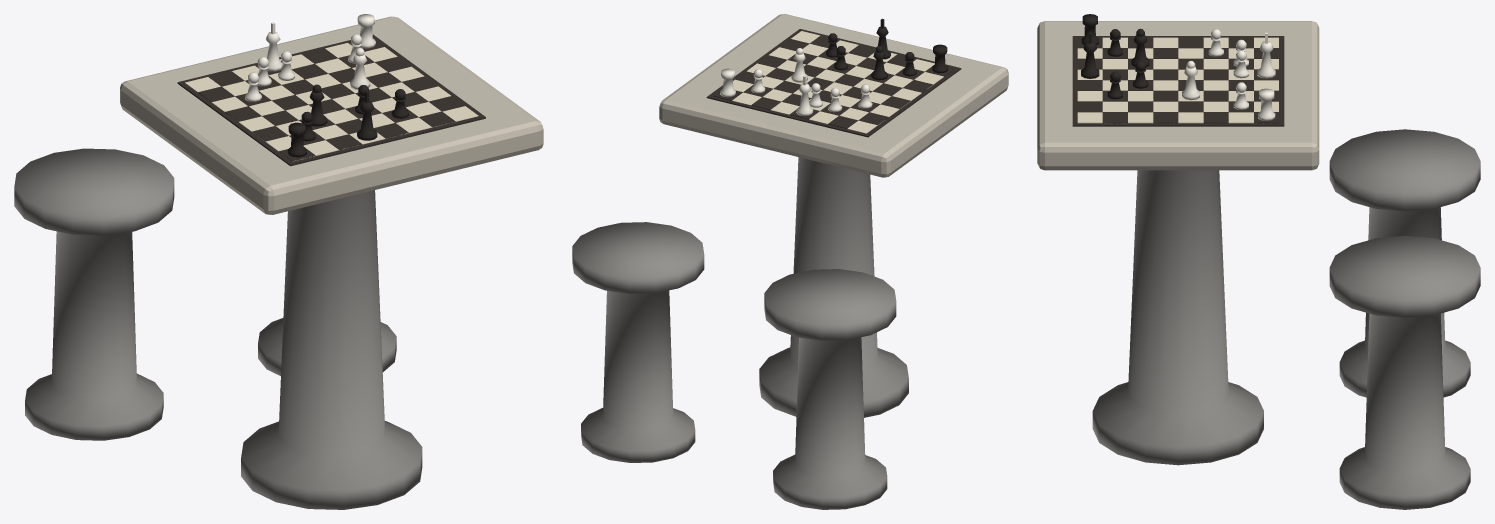
File: parkChessTable.glb
The picture shows the model from 3 angles, left to right: view 1: azimuth 30°, elevation 25°; view 2: azimuth 150°, elevation 25°; view 3: azimuth 270°, elevation 25°; orthographic projection. The views are drawn at different scales.
Parts seen in each view (by area): view 1: table; view 2: table; view 3: table.
Part boxes in pixels (x1,y1,x2,y2): table: (14,14,543,509); table: (572,14,1008,509); table: (1037,14,1480,509).
Bounding box in the file's own units: 0.8 × 0.855 × 0.88.
